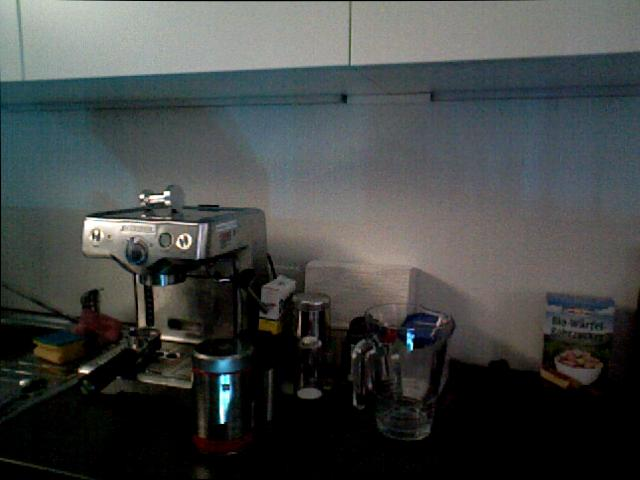bird: (549, 348, 603, 388)
couch: (0, 315, 75, 384)
handbag: (353, 300, 456, 441)
toilet: (0, 371, 40, 412)
